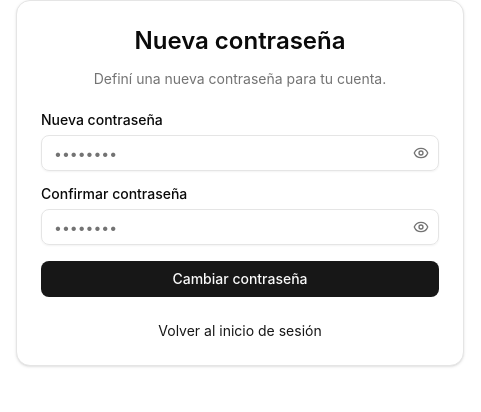
it: ResetPasswordForm › should show mismatch error for different passwords
Type "secret12" into the password field labelled "Nueva contraseña" at (240,153), box left=41, top=135, right=439, bottom=171
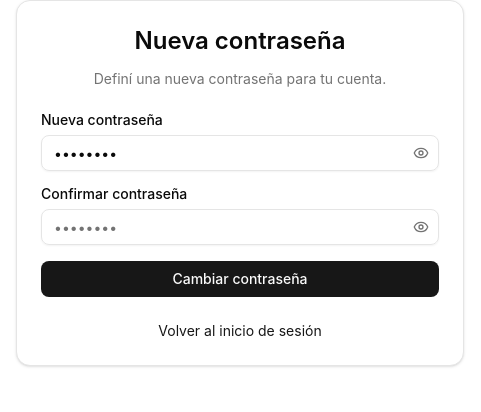
Type "secret34" into the password field labelled "Confirmar contraseña" at (240,227), box left=41, top=209, right=439, bottom=245
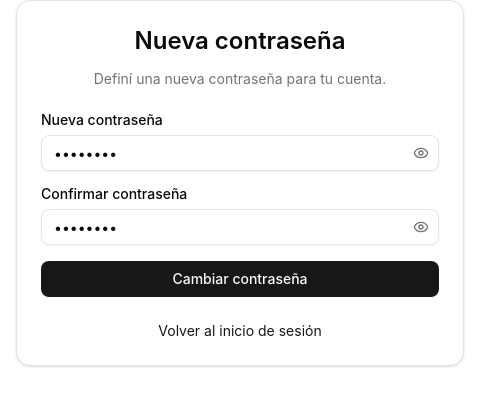
Click the button "Cambiar contraseña" at (240,279), box left=41, top=261, right=439, bottom=297
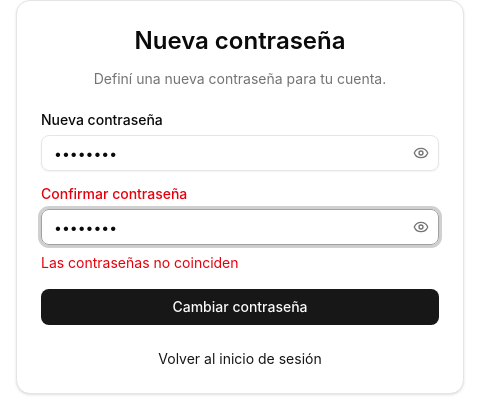
Result: the text "Las contraseñas no coinciden" is shown at left=41, top=254, right=238, bottom=271
